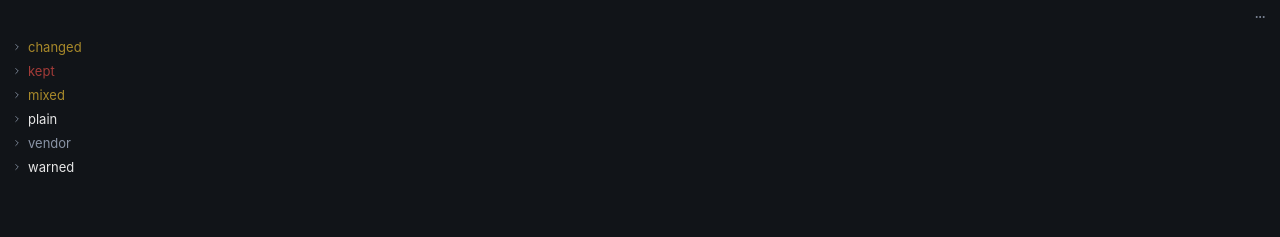
Scenario: a changed file read from a nested repository colours the folders above it, an ignored one included (#1, #903)
Double-click the button titled "vendor".
double_click(49, 143)  # box [6,131,1274,155]
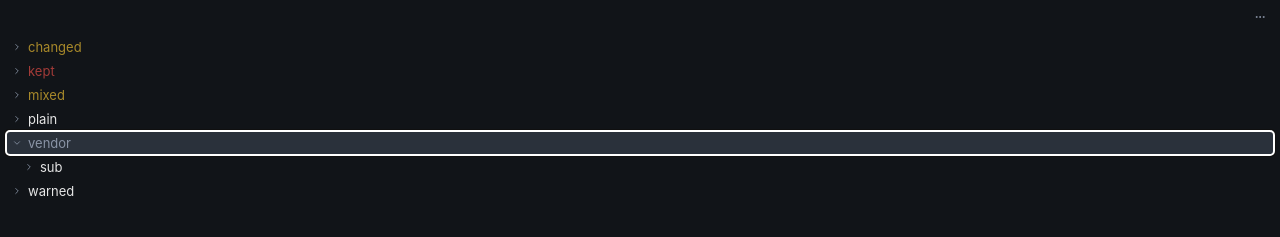
Double-click the button titled "vendor/sub".
double_click(29, 167)  # box [6,155,1274,179]
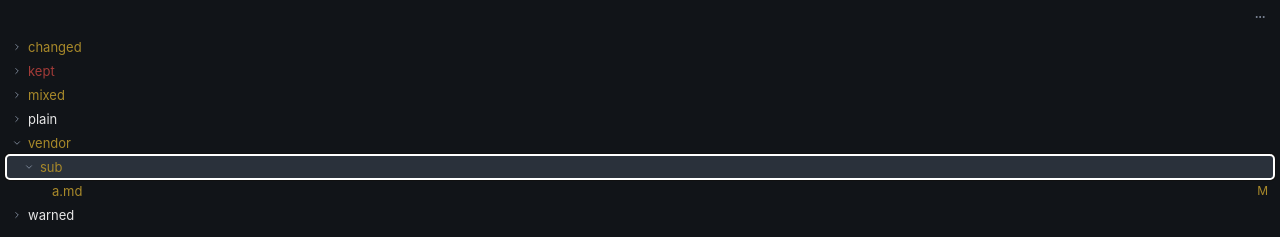
Check: the button titled "vendor/sub/a.md" is shown, box [6,179,1274,203]
